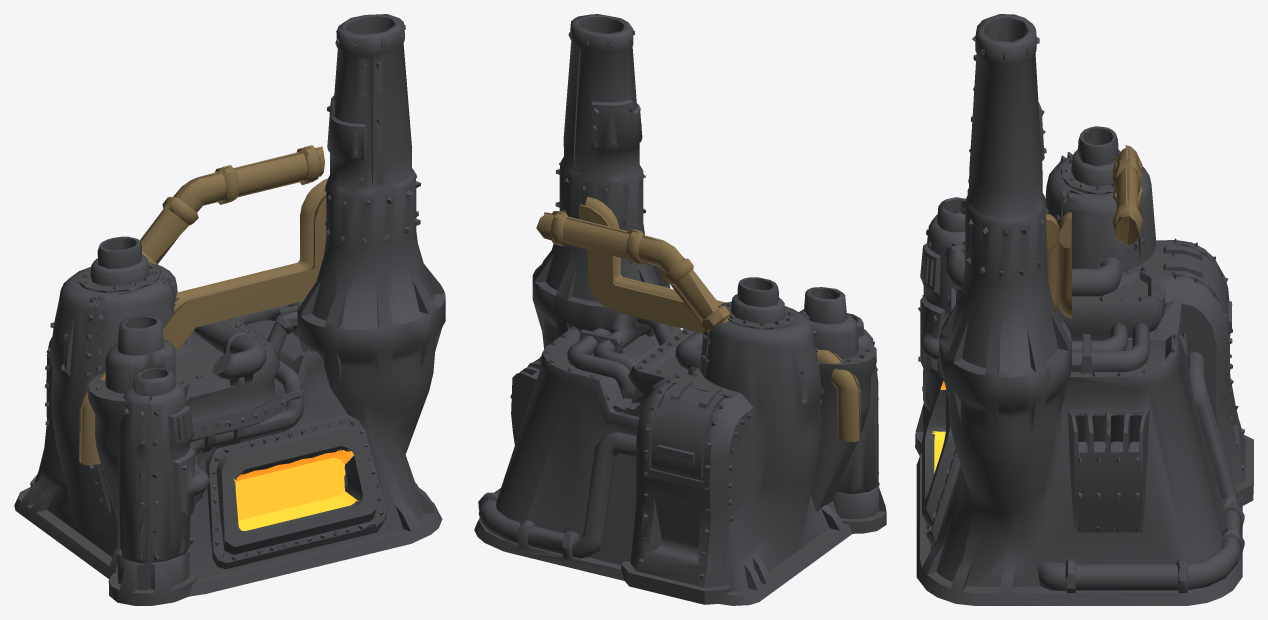
Rendered from steel-furnace.glb.
3 views of the same model, side by side, from view 1: azimuth 30°, elevation 25°; view 2: azimuth 150°, elevation 25°; view 3: azimuth 270°, elevation 25° (orthographic). The views are drawn at different scales.
Parts seen in each view (by area): view 1: body; view 2: body; view 3: body.
Boxes of the visible parts, x1,y1,x2,y2 form: body: (14,14,445,605); body: (474,14,886,605); body: (915,14,1253,605).
Bounding box in the file's own units: 1.96 × 2.6 × 1.46.
